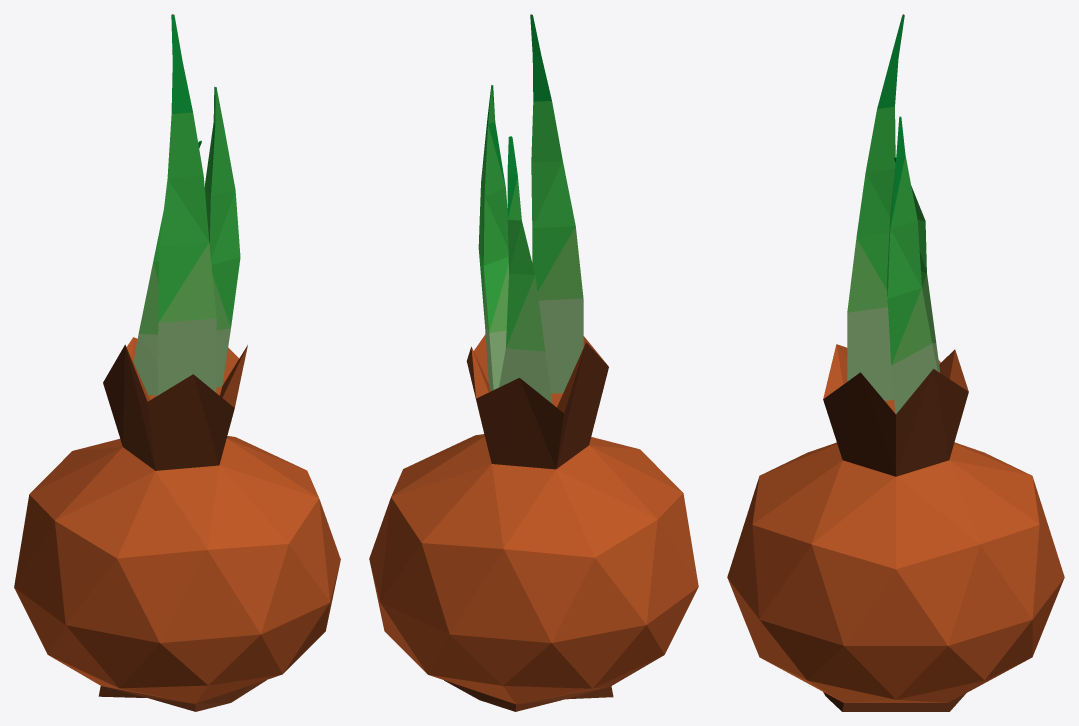
File: onion_anim.fbx
3 renders of one model, left to right at view 1: azimuth 30°, elevation 25°; view 2: azimuth 150°, elevation 25°; view 3: azimuth 270°, elevation 25°, orthographic.
Parts seen in each view (by area): view 1: Icosphere; view 2: Icosphere; view 3: Icosphere.
Boxes of the visible parts, x1=… form: Icosphere: x1=14, y1=14, x2=340, y2=711; Icosphere: x1=369, y1=14, x2=698, y2=711; Icosphere: x1=727, y1=14, x2=1064, y2=711.
Bounding box in the file's own units: 190 × 439 × 200.
